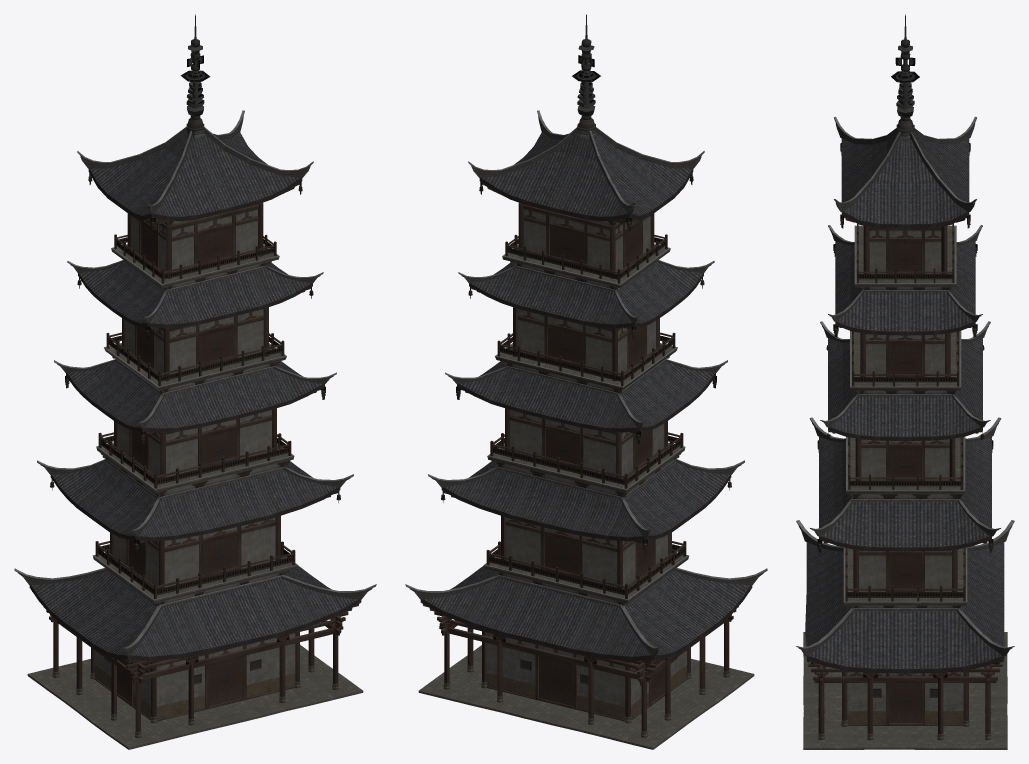
Rendered from china.glb.
3 renders of one model, left to right at view 1: azimuth 30°, elevation 25°; view 2: azimuth 150°, elevation 25°; view 3: azimuth 270°, elevation 25°, orthographic.
Visible parts, largest first — view 1: HZ046; view 2: HZ046; view 3: HZ046.
Part boxes in pixels (x1=…): HZ046: x1=14, y1=14, x2=376, y2=749; HZ046: x1=405, y1=14, x2=767, y2=749; HZ046: x1=796, y1=14, x2=1014, y2=749.
Bounding box in the file's own units: 15.46 × 38.49 × 11.24.
1 material, 1 textured.
